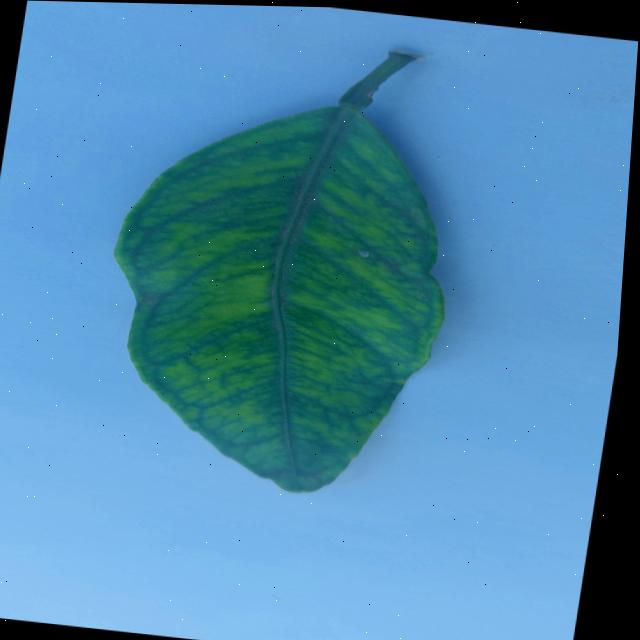greening: (116, 51, 444, 492)
